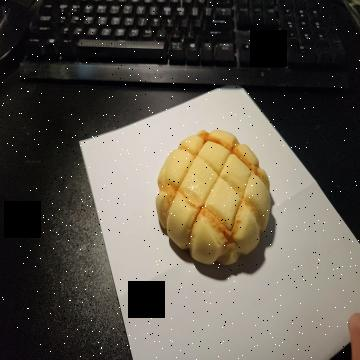melon_bread: (156, 130, 271, 266)
